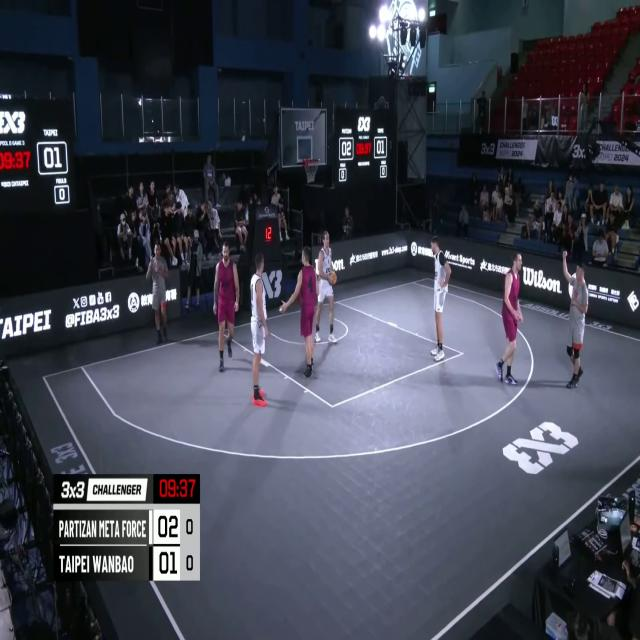ball: (328, 268, 339, 286)
hoop: (302, 156, 318, 184)
player: (282, 246, 317, 385), (562, 246, 587, 390), (496, 252, 522, 389), (213, 238, 239, 372), (429, 235, 453, 365), (249, 250, 269, 404), (314, 230, 338, 347)
